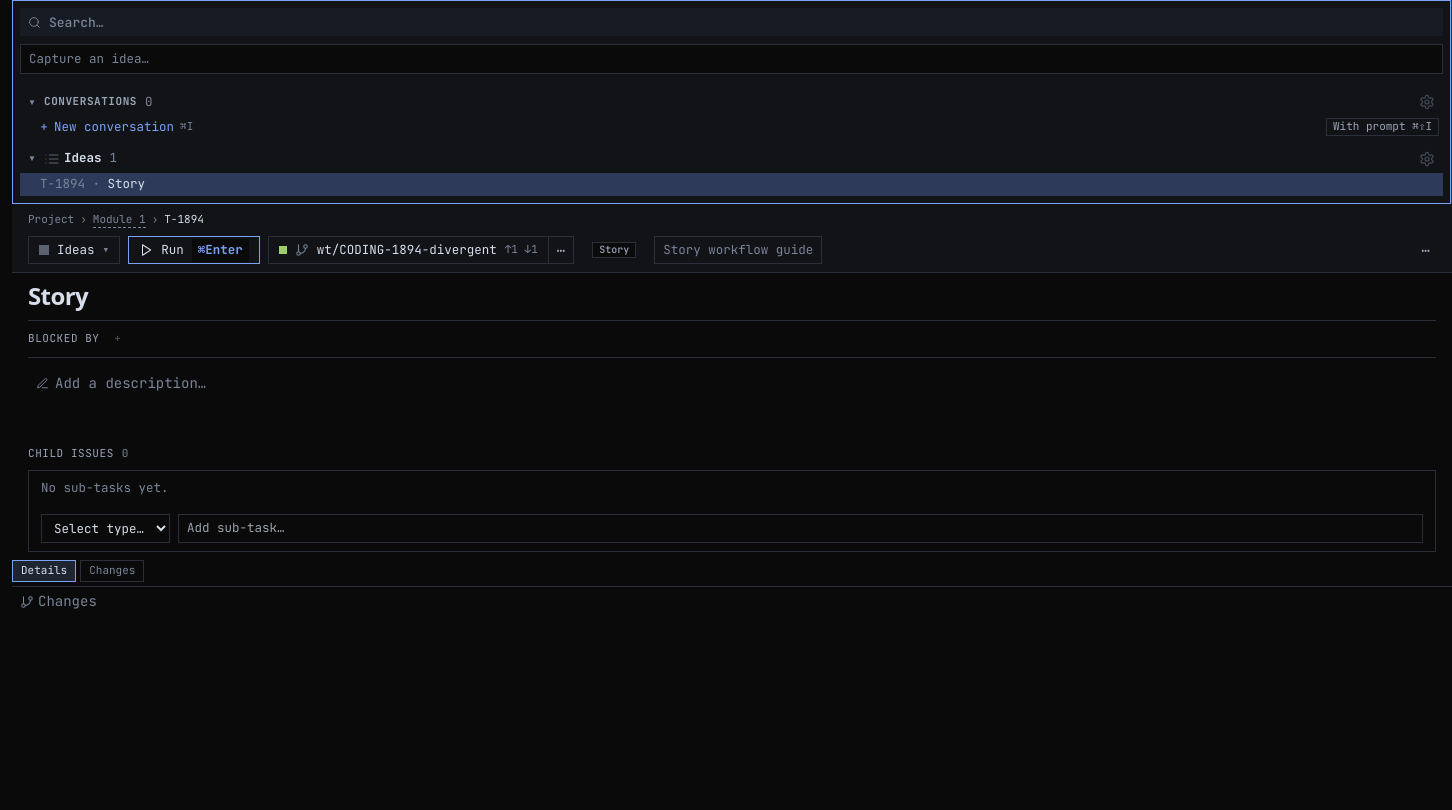
overhaul acceptance - divergent local merge recovery › [overhaul-398] reports a merge blocker without offering conflict recovery
The width and height of the screenshot is (1452, 810).
Click the tab "Changes": (112, 571) [80, 560, 144, 582]
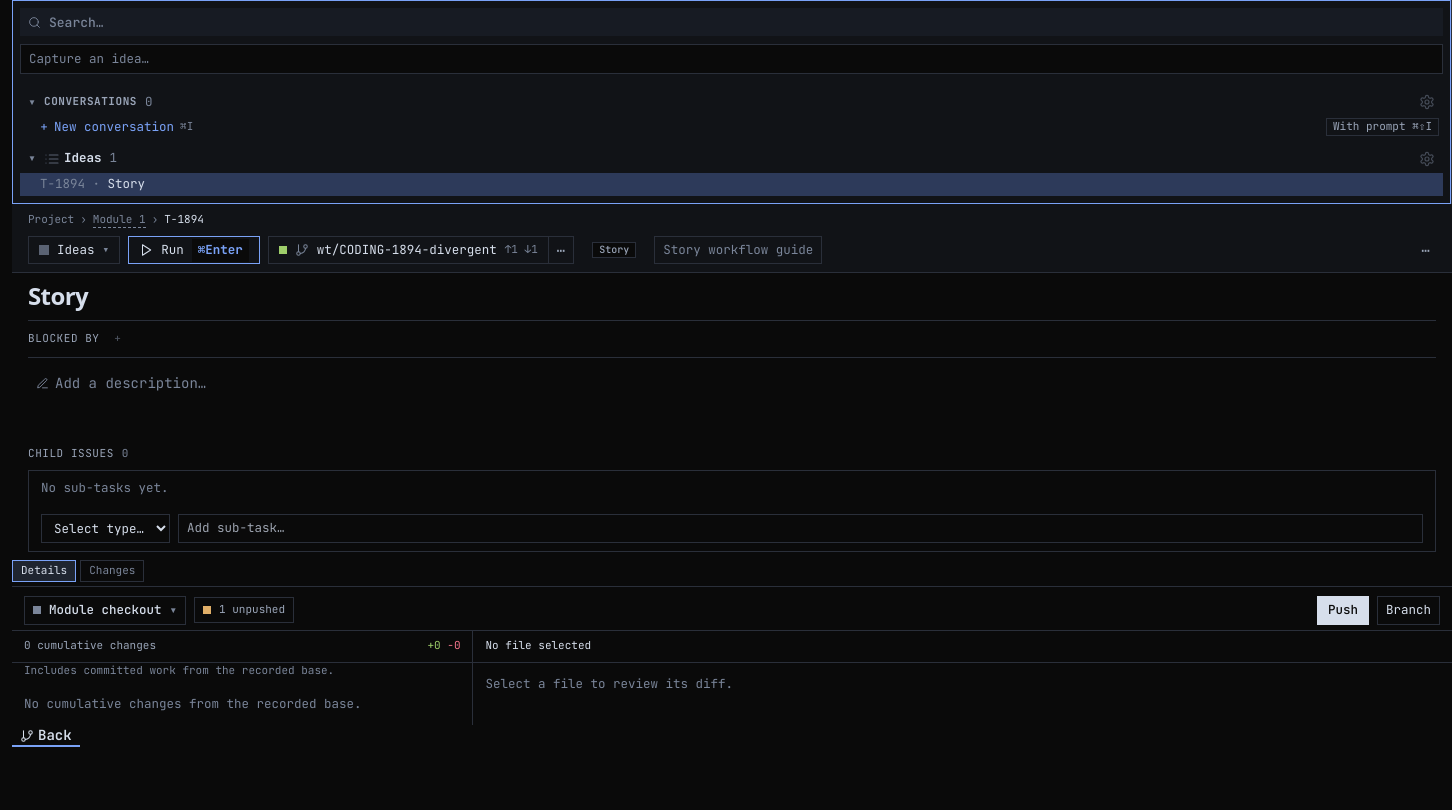
Click the button "Branch": (1408, 610) [1377, 596, 1440, 625]
(page scrolled)
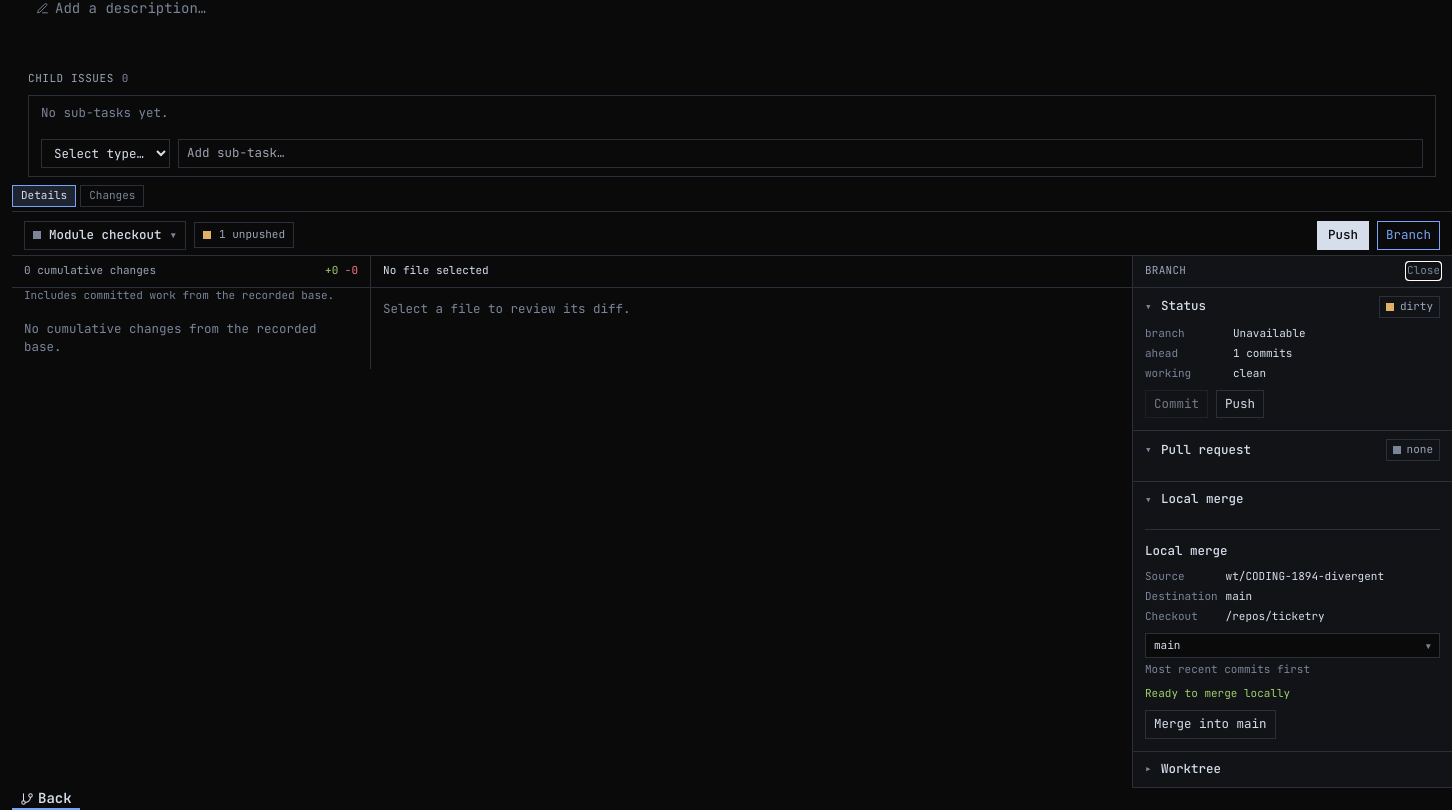
Click the button "Merge into main": (1210, 725) [1145, 710, 1276, 739]
(page scrolled)
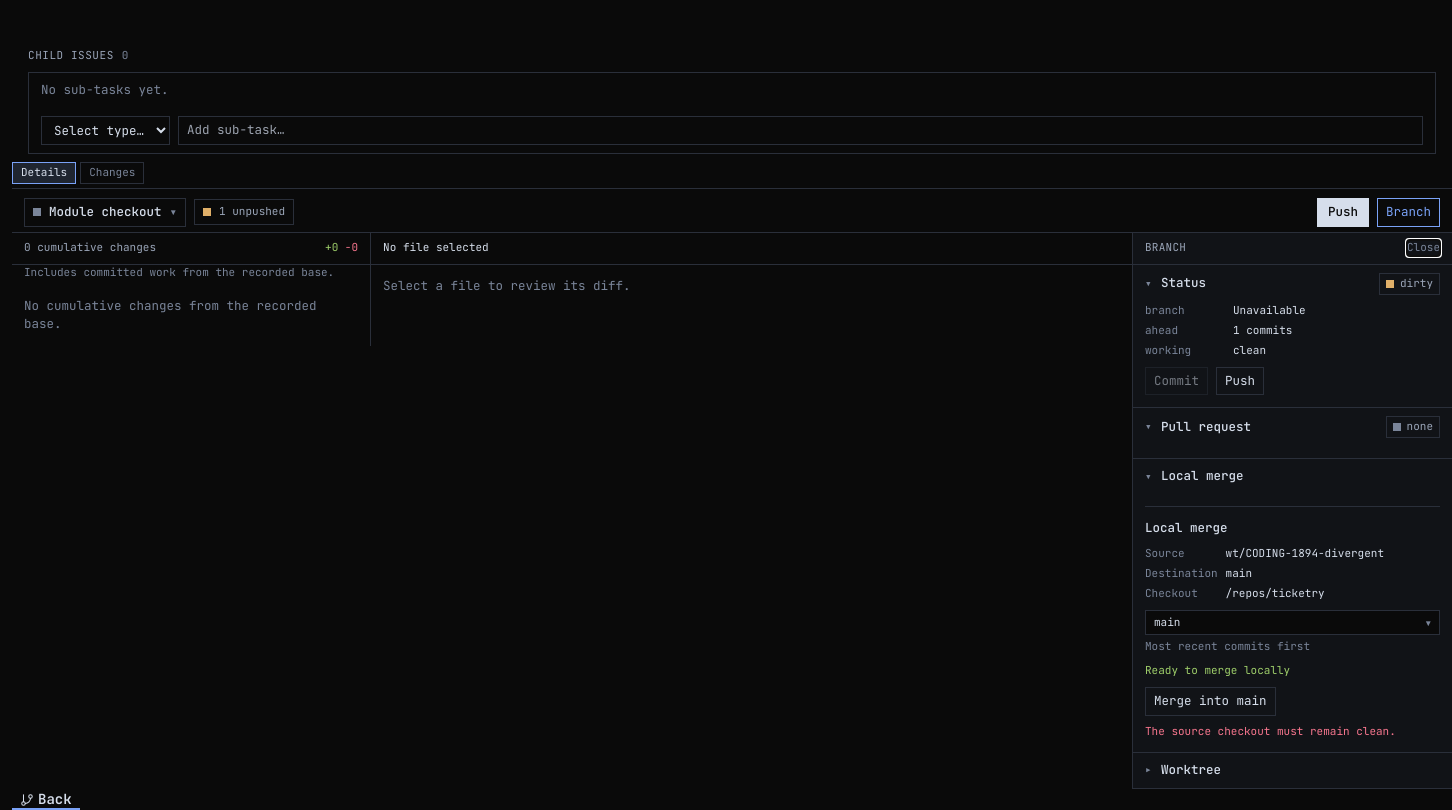
Now the message "The source checkout must remain clean." is shown, box [1145, 724, 1440, 740]
